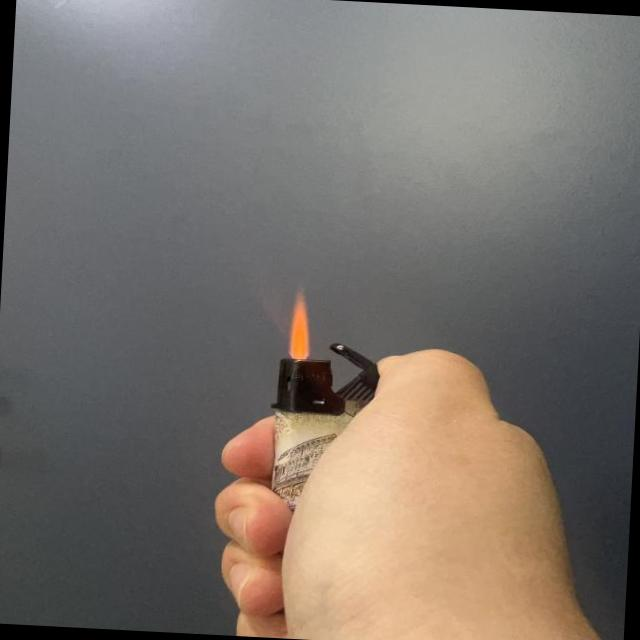Fire: (281, 284, 317, 362)
